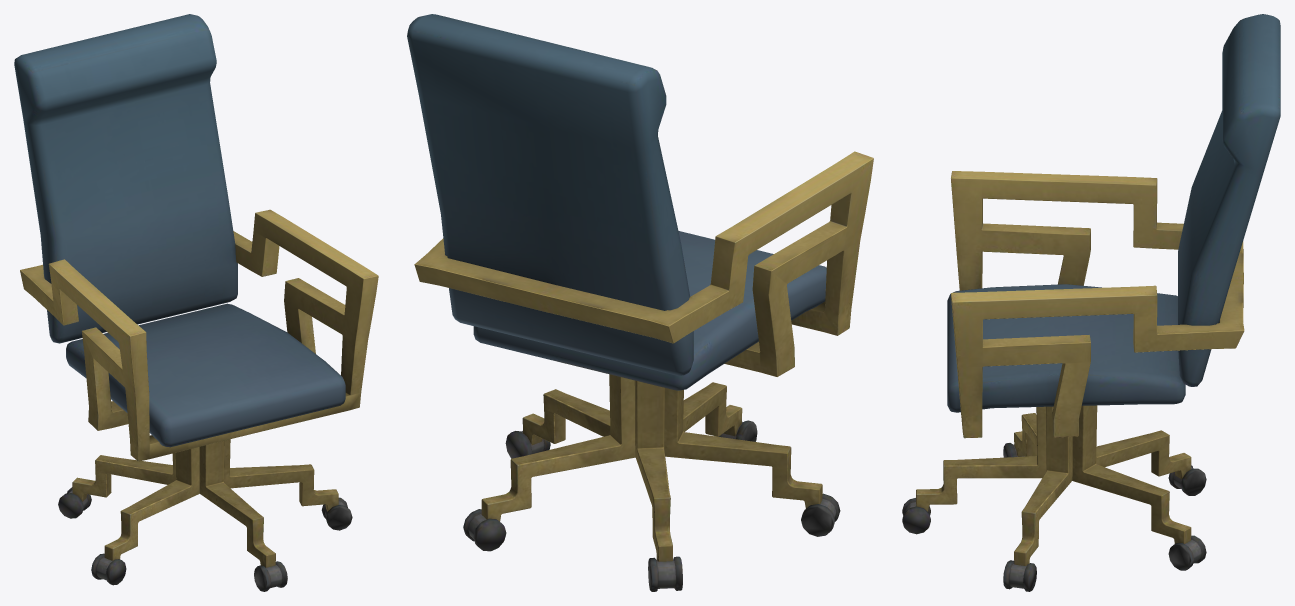
Rendered from SM_Chair002.glb.
3 renders of one model, left to right at view 1: azimuth 30°, elevation 25°; view 2: azimuth 150°, elevation 25°; view 3: azimuth 270°, elevation 25°, orthographic. The views are drawn at different scales.
Parts seen in each view (by area): view 1: SM_Chair002; view 2: SM_Chair002; view 3: SM_Chair002.
Boxes of the visible parts, x1,y1,x2,y2 form: SM_Chair002: (14,14,378,591); SM_Chair002: (407,14,873,591); SM_Chair002: (902,14,1280,591).
Size of the model in its own units: 0.7941 by 1.29 by 0.9394.
1 material, 1 textured.
